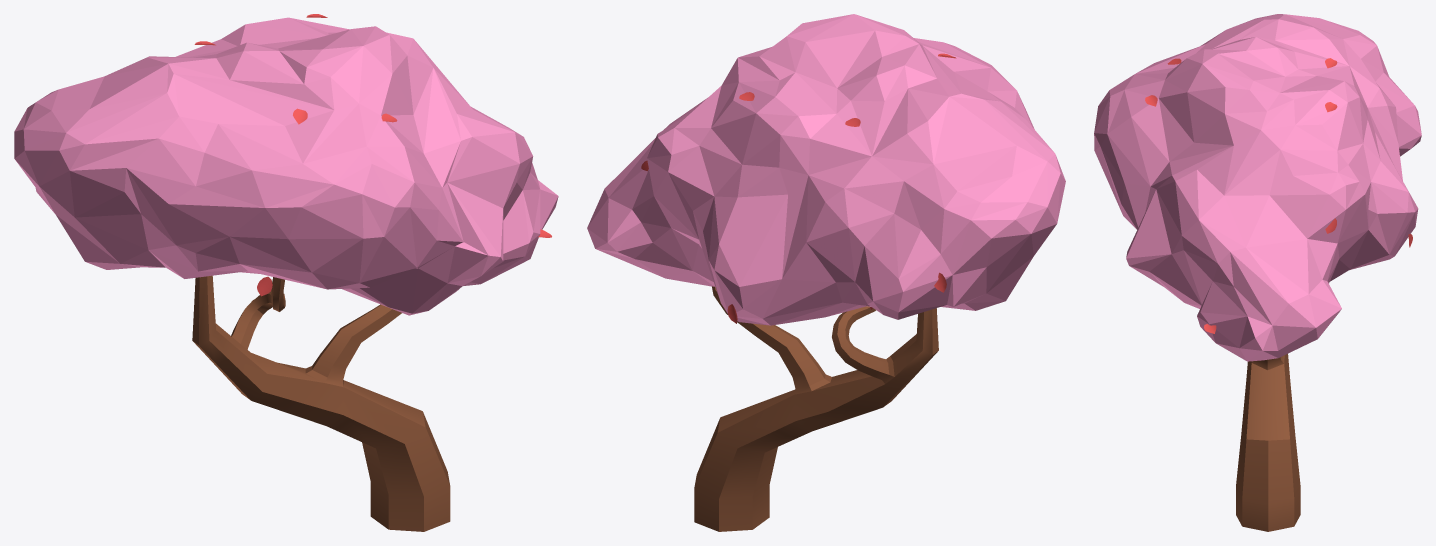
Rendered from sakuratree.glb.
3 views of the same model, side by side, from view 1: azimuth 30°, elevation 25°; view 2: azimuth 150°, elevation 25°; view 3: azimuth 270°, elevation 25° (orthographic). The views are drawn at different scales.
Parts seen in each view (by area): view 1: Object_2, Object_3, Object_4; view 2: Object_2, Object_3, Object_4; view 3: Object_2, Object_3, Object_4.
Boxes of the visible parts, x1,y1,x2,y2 form: Object_2: [14, 17, 558, 315]; Object_3: [192, 275, 450, 531]; Object_4: [194, 14, 551, 296]; Object_2: [587, 14, 1065, 325]; Object_3: [694, 286, 938, 531]; Object_4: [641, 53, 956, 323]; Object_2: [1094, 14, 1421, 361]; Object_3: [1236, 354, 1300, 531]; Object_4: [1145, 58, 1412, 333].
Bounding box in the file's own units: 28.53 × 28.37 × 20.11.
